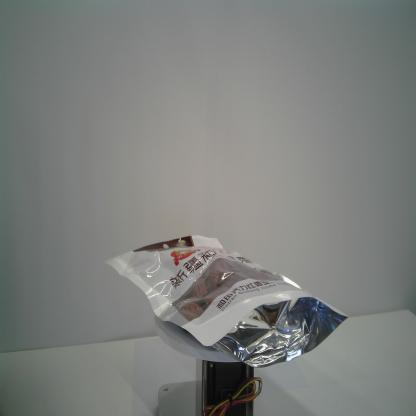Dried Food: (100, 234, 350, 371)
